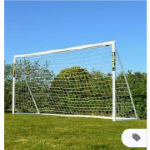goals: (11, 40, 140, 125)
